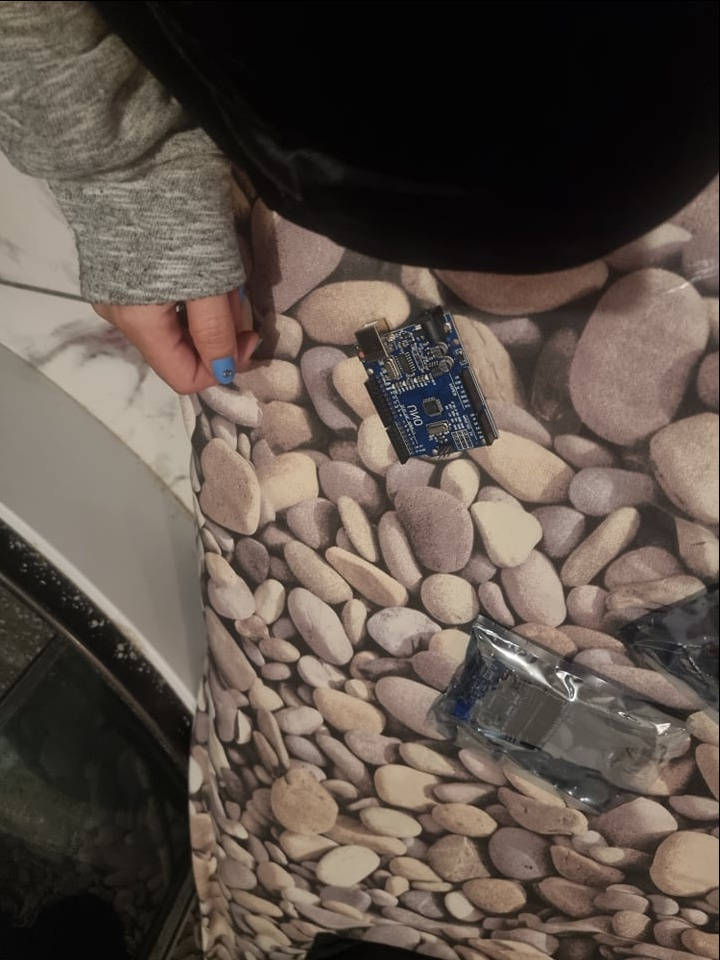UNO R3: (354, 302, 499, 464)
